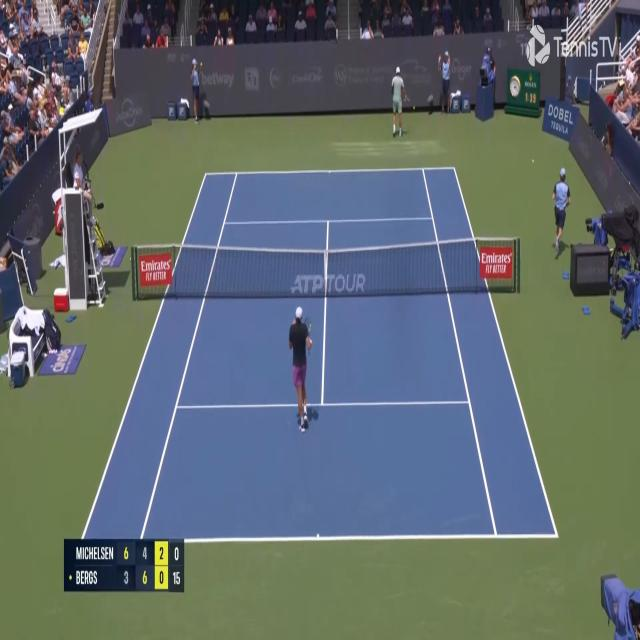tennis-player: (288, 303, 314, 435), (390, 65, 406, 140)
